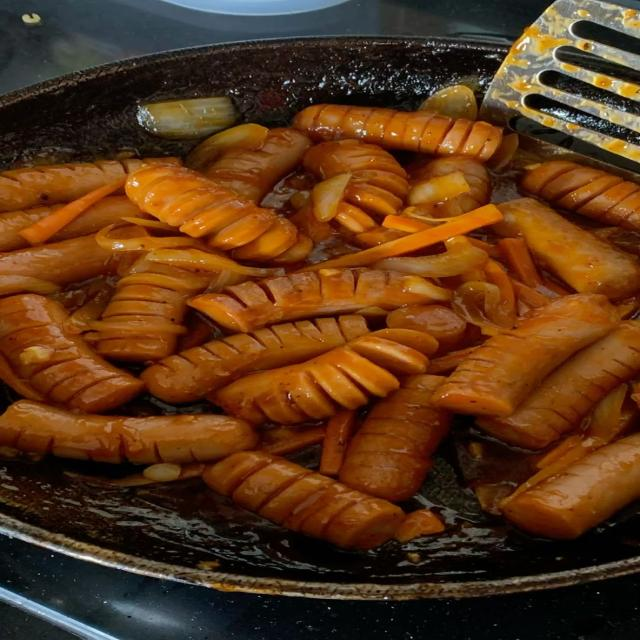sausage: (434, 295, 619, 416), (210, 330, 434, 424), (477, 321, 639, 449), (141, 316, 369, 403), (203, 452, 404, 549), (126, 165, 312, 261), (0, 295, 144, 411), (189, 269, 448, 332), (0, 401, 259, 463), (501, 434, 639, 539), (493, 199, 639, 298), (339, 375, 450, 501), (94, 257, 210, 362), (294, 105, 502, 160), (0, 158, 180, 211), (203, 128, 311, 203), (521, 161, 639, 229), (304, 140, 408, 217), (0, 235, 117, 285), (410, 157, 491, 217), (47, 196, 147, 242), (387, 305, 467, 352)
